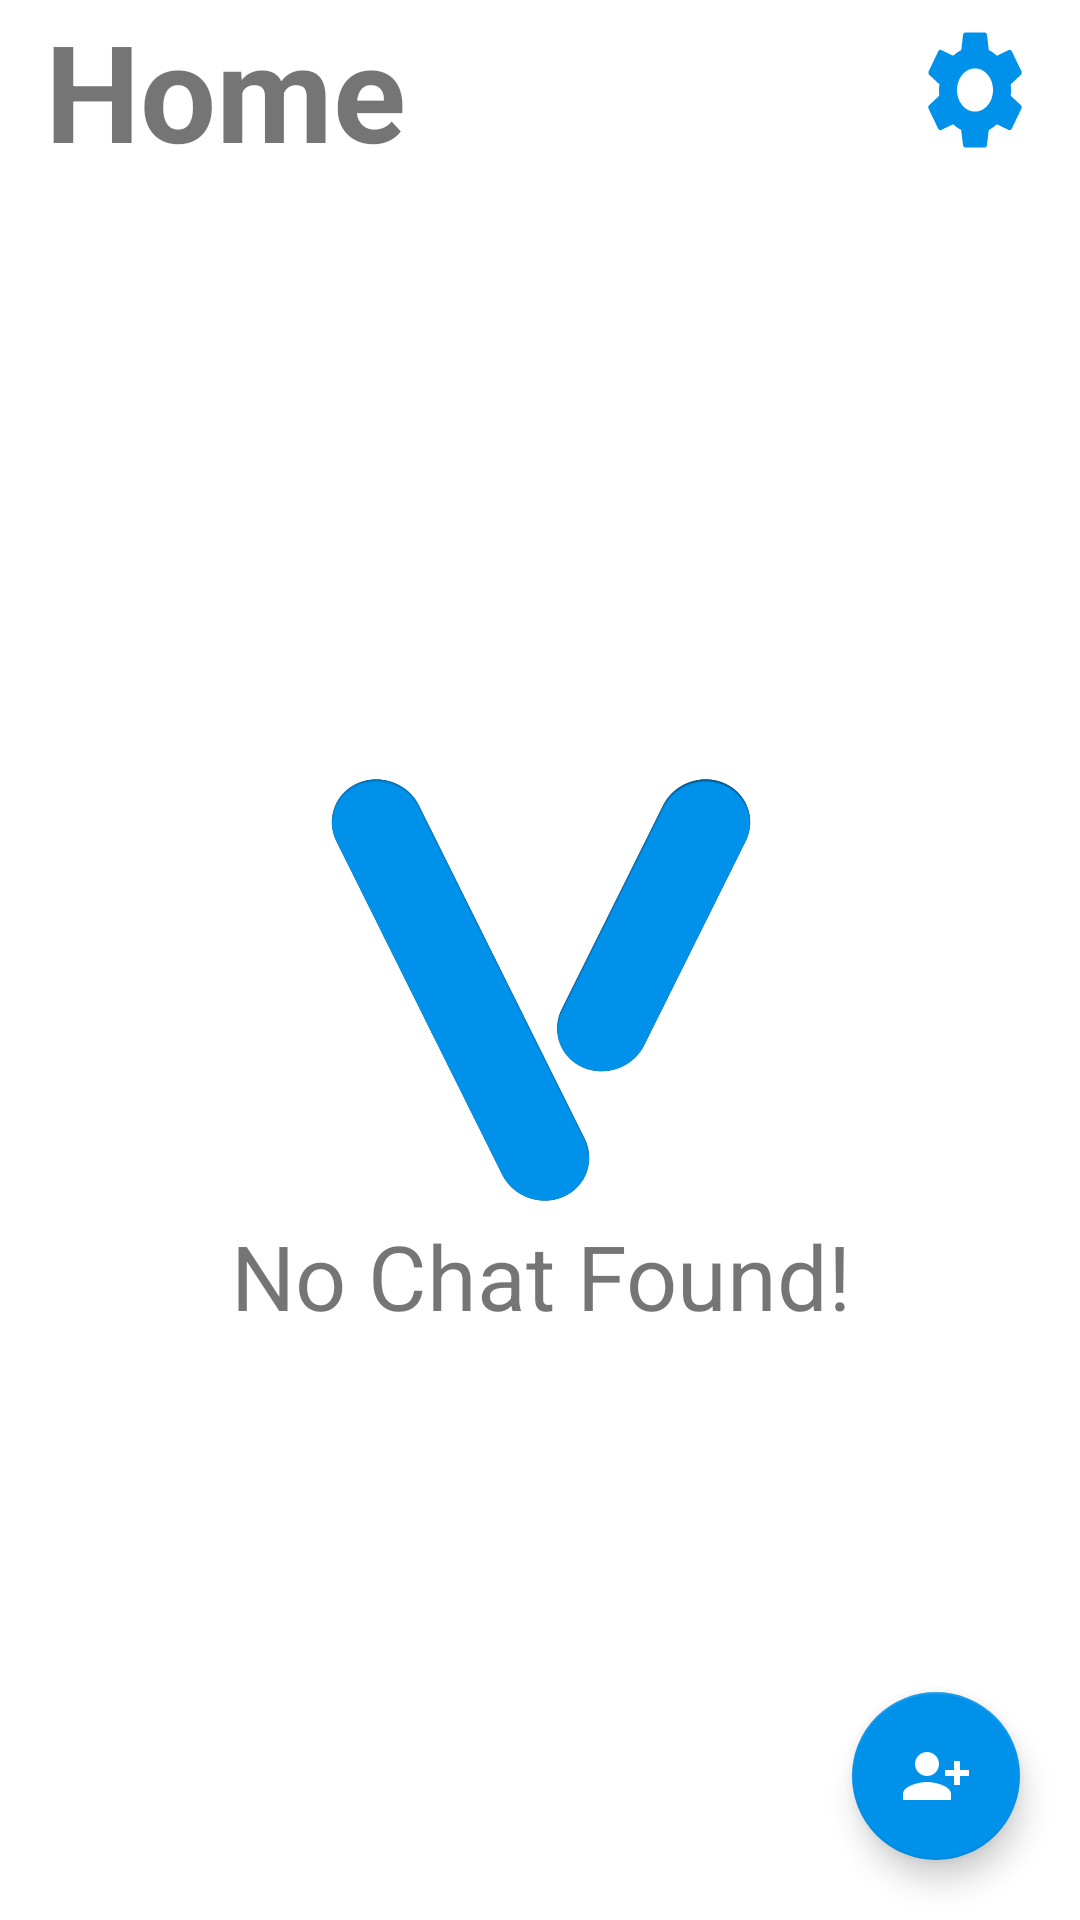

Icon bounding boxes for this 1080 x 1920 phone screenshot, format (x1, y1, x2, y2):
person add: (852, 1692, 1020, 1860)
settings: (928, 32, 1022, 148)
